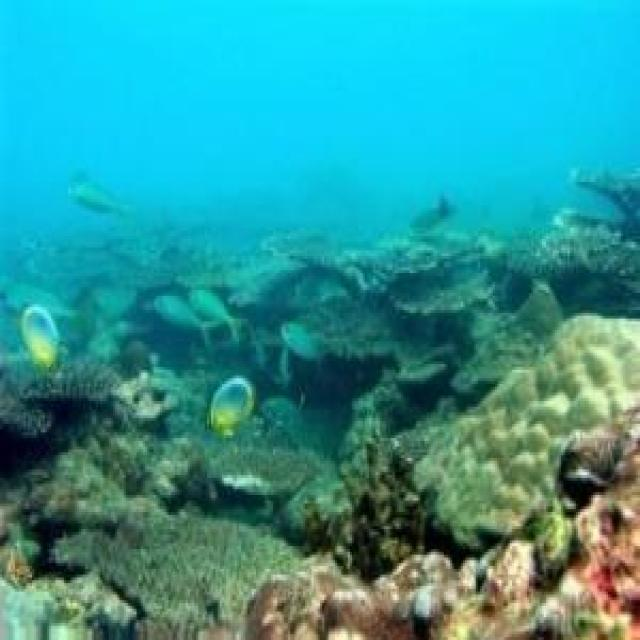bleached coral: (331, 458, 463, 566), (535, 313, 640, 427), (2, 555, 141, 640), (397, 558, 486, 640), (247, 572, 350, 640), (514, 501, 580, 597), (111, 364, 183, 435), (606, 546, 640, 626), (288, 478, 343, 526), (215, 472, 277, 495)
healthy coral: (318, 225, 640, 316), (75, 191, 320, 284), (220, 299, 382, 430), (83, 501, 256, 580), (0, 302, 94, 393), (395, 356, 467, 435)
